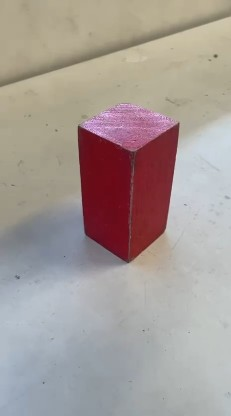red: (89, 107, 168, 250)
